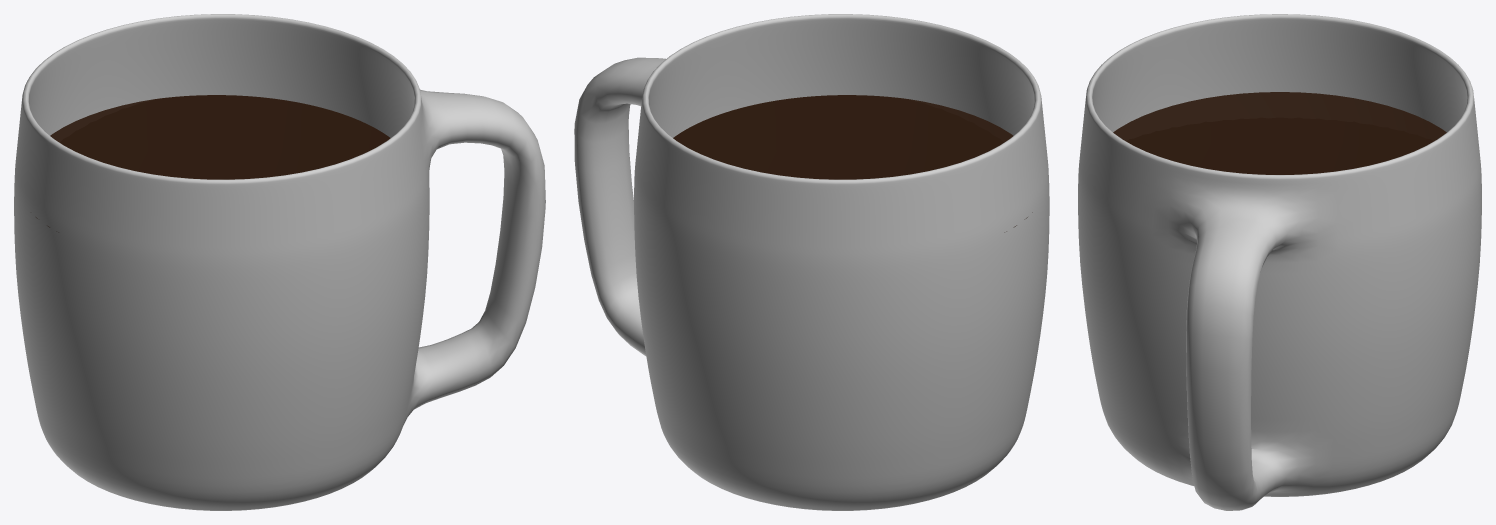
The picture shows the model from 3 angles, left to right: view 1: azimuth 30°, elevation 25°; view 2: azimuth 150°, elevation 25°; view 3: azimuth 270°, elevation 25°; orthographic projection. The views are drawn at different scales.
Visible parts, largest first — view 1: Mug, Coffee; view 2: Mug, Coffee; view 3: Mug, Coffee.
Boxes of the visible parts, bbox=[...] form: Mug: bbox=[14, 14, 545, 510]; Coffee: bbox=[36, 95, 390, 232]; Mug: bbox=[574, 14, 1049, 510]; Coffee: bbox=[673, 95, 1032, 232]; Mug: bbox=[1078, 14, 1481, 510]; Coffee: bbox=[1113, 92, 1446, 174].
Bounding box in the file's own units: 1.72 × 1.21 × 1.32.
